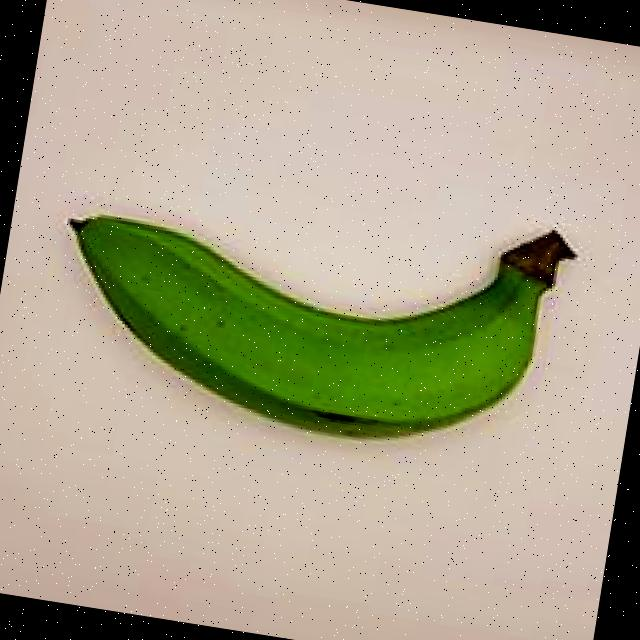Raw: (25, 126, 606, 497)
